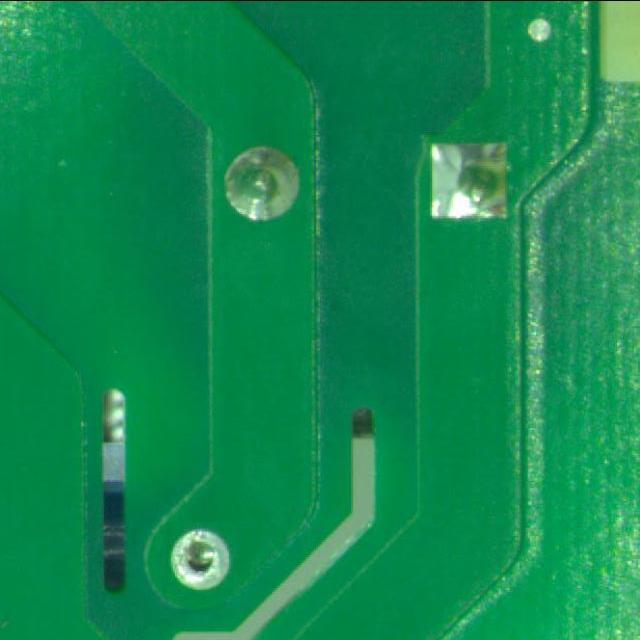lack_of_part: (163, 524, 234, 594)
